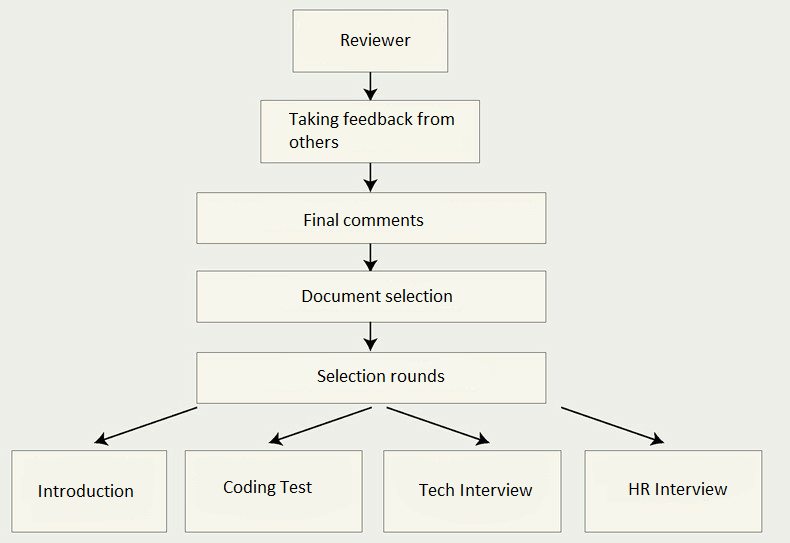arrow: (550, 402, 666, 451), (384, 403, 492, 451), (265, 401, 372, 447), (93, 406, 199, 450), (362, 69, 380, 103), (361, 160, 379, 193), (361, 321, 380, 352), (362, 239, 377, 272)
process: (193, 265, 550, 326), (193, 187, 550, 247), (193, 347, 550, 407), (180, 447, 367, 536), (380, 447, 565, 535), (581, 447, 765, 535), (257, 97, 484, 167), (8, 447, 171, 535), (288, 6, 452, 77)
text: (287, 108, 457, 151), (299, 286, 453, 305), (300, 209, 425, 231), (316, 365, 444, 386), (417, 479, 534, 501), (626, 479, 730, 501), (34, 479, 135, 501), (221, 476, 314, 499), (339, 30, 412, 49)
